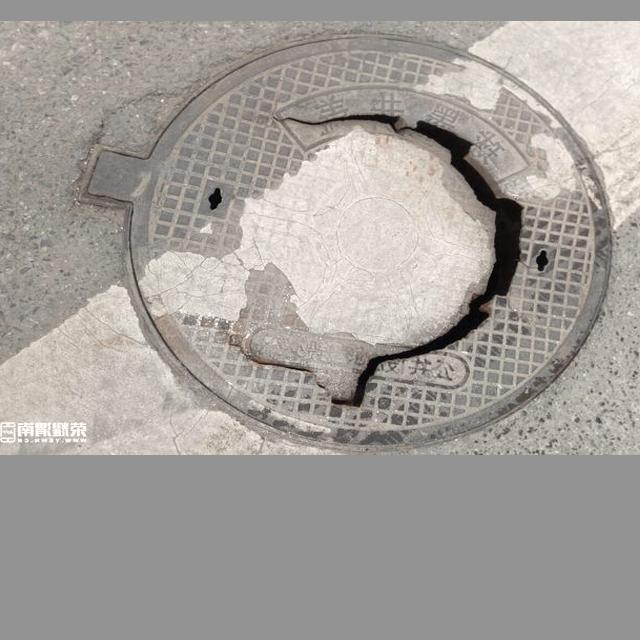broke: (116, 26, 625, 450)
